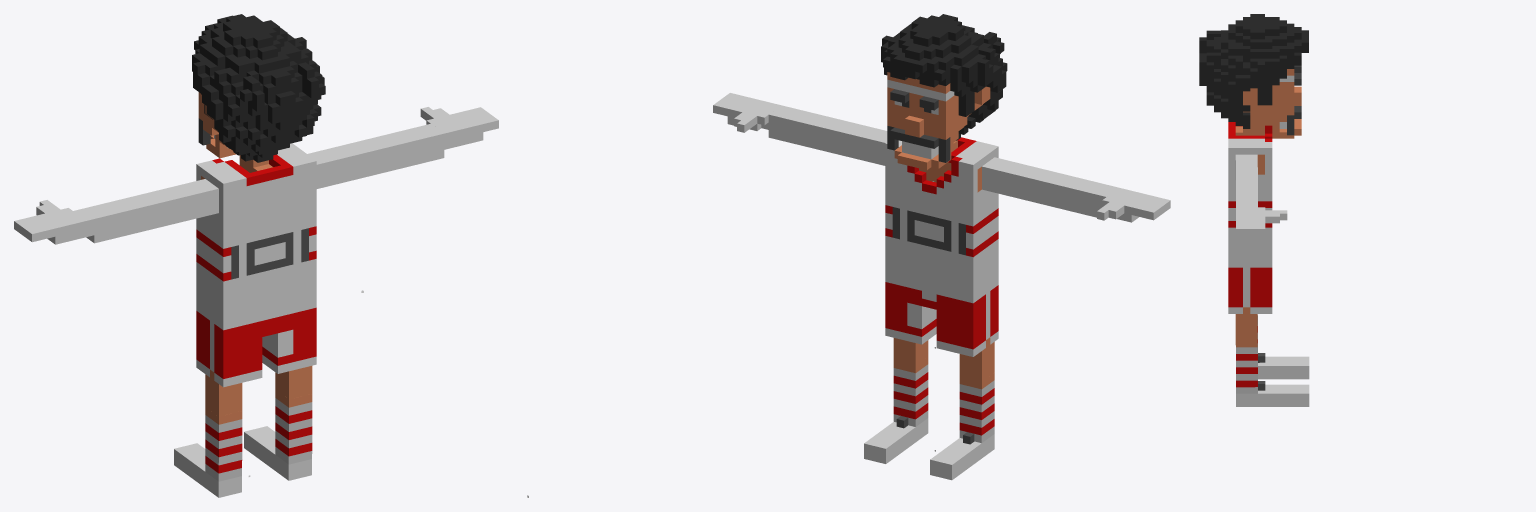
The model's file is Audience 6.fbx.
The picture shows the model from 3 angles, left to right: view 1: azimuth 30°, elevation 25°; view 2: azimuth 150°, elevation 25°; view 3: azimuth 270°, elevation 25°; orthographic projection. The views are drawn at different scales.
Parts seen in each view (by area): view 1: Chunk__2_3_2__13, Chunk__2_2_2__2, Chunk__2_1_2_, Chunk__2_1_2__1, Chunk__2_2_2__13, Chunk__1_2_2__3, Chunk__1_0_2__19, Chunk__2_0_2__15, Chunk__3_2_2__9, Chunk__2_0_2__14, Chunk__2_2_2__8, Chunk__1_2_2__2 (+16 smaller); view 2: Chunk__2_1_2_, Chunk__2_3_2__13, Chunk__2_2_2__2, Chunk__2_1_2__1, Chunk__2_2_1__13, Chunk__2_3_1__13, Chunk__2_0_2__15, Chunk__1_0_2__19, Chunk__1_2_2__3, Chunk__3_2_2__9, Chunk__2_0_2__14, Chunk__2_2_2__13 (+12 smaller); view 3: Chunk__1_3_2__13, Chunk__1_2_2__13, Chunk__2_3_2__13, Chunk__1_1_2_, Chunk__1_2_2__2, Chunk__1_0_2__19, Chunk__1_0_2__18, Chunk__2_2_2__13, Chunk__1_0_2__20, Chunk__1_1_2__18, Chunk__2_0_2__16, Chunk__1_2_2__3 (+10 smaller).
Part boxes in pixels (x1,y1,x2,y2): Chunk__2_3_2__13: (192,14,306,116); Chunk__2_2_2__2: (196,154,293,240); Chunk__2_1_2_: (196,270,293,346); Chunk__2_1_2__1: (196,221,293,289); Chunk__2_2_2__13: (203,103,306,167); Chunk__1_2_2__3: (307,139,382,188); Chunk__1_0_2__19: (275,390,312,464); Chunk__2_0_2__15: (205,407,242,481); Chunk__3_2_2__9: (73,196,148,243); Chunk__2_0_2__14: (196,351,262,416); Chunk__2_2_2__8: (151,179,218,226); Chunk__1_2_2__2: (277,143,316,223); Chunk__2_1_2_: (907,246,998,318); Chunk__2_3_2__13: (898,14,1007,97); Chunk__2_2_2__2: (907,137,998,218); Chunk__2_1_2__1: (907,200,998,264); Chunk__2_2_1__13: (890,89,950,169); Chunk__2_3_1__13: (890,41,950,101); Chunk__2_0_2__15: (959,372,994,444); Chunk__1_0_2__19: (893,357,928,428); Chunk__1_2_2__3: (827,119,887,165); Chunk__3_2_2__9: (1048,173,1118,217); Chunk__2_0_2__14: (936,323,998,381); Chunk__2_2_2__13: (899,79,1006,165); Chunk__1_3_2__13: (1199,39,1286,91); Chunk__1_2_2__13: (1206,82,1286,121); Chunk__2_3_2__13: (1199,14,1286,75); Chunk__1_1_2_: (1228,234,1272,280); Chunk__1_2_2__2: (1228,138,1272,194); Chunk__1_0_2__19: (1235,340,1265,393); Chunk__1_0_2__18: (1228,301,1272,340); Chunk__2_2_2__13: (1199,76,1286,138); Chunk__1_0_2__20: (1236,384,1287,406); Chunk__1_1_2__18: (1228,281,1272,300); Chunk__2_0_2__16: (1258,356,1287,379); Chunk__1_2_2__3: (1235,154,1257,182).
Bounding box in the file's own units: 651 × 553 × 440.
